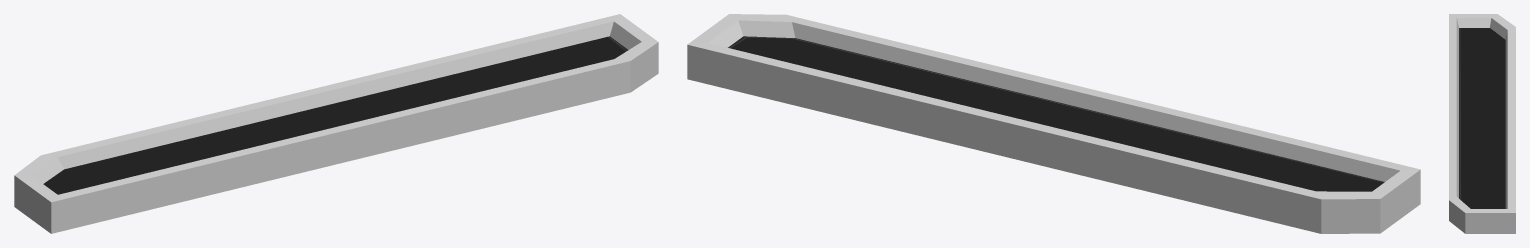
File: Initial_Environment_Signage 3_Ver2.fbx
3 views of the same model, side by side, from view 1: azimuth 30°, elevation 25°; view 2: azimuth 150°, elevation 25°; view 3: azimuth 270°, elevation 25° (orthographic). The views are drawn at different scales.
Visible parts, largest first — view 1: Plane.002; view 2: Plane.002; view 3: Plane.002.
Boxes of the visible parts, left/top/right/bottom form: Plane.002: left=14, top=14, right=658, bottom=233; Plane.002: left=687, top=14, right=1420, bottom=233; Plane.002: left=1449, top=14, right=1515, bottom=233.
Bounding box in the file's own units: 128 × 6.27 × 18.11.
1 material, 1 textured.
